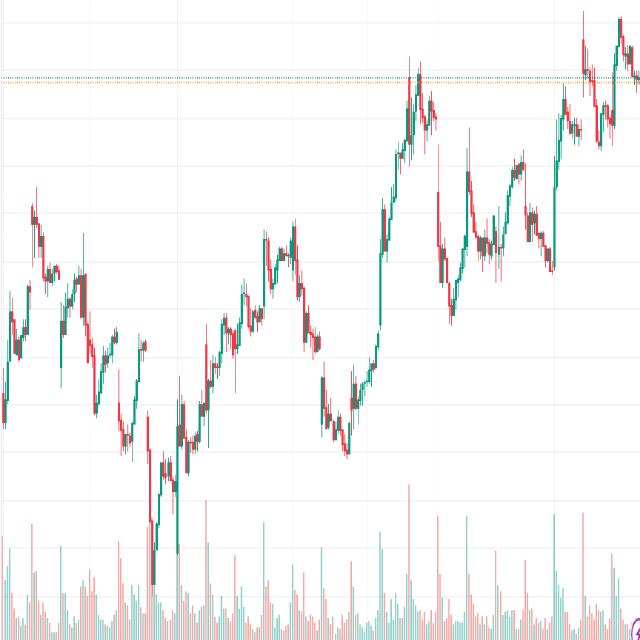Channel-up: (129, 175, 313, 612)
Head-Shoulders: (384, 52, 451, 200)
